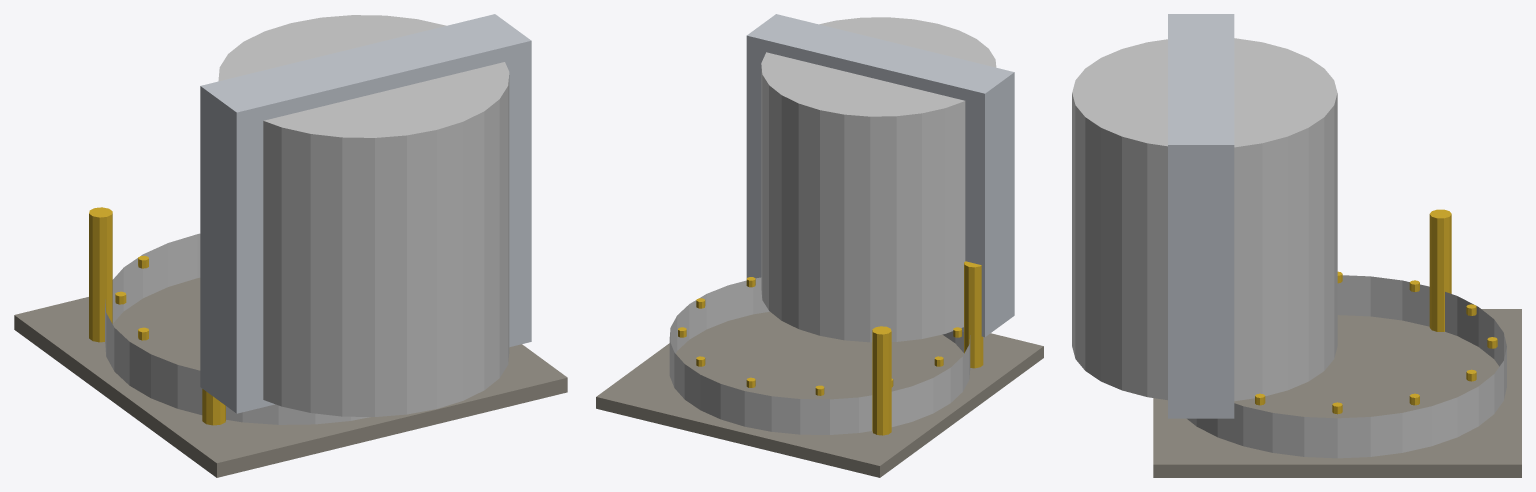
The model's file is silo_hatch_open.obj.
The picture shows the model from 3 angles, left to right: view 1: azimuth 30°, elevation 25°; view 2: azimuth 150°, elevation 25°; view 3: azimuth 270°, elevation 25°; orthographic projection. The views are drawn at different scales.
Parts seen in each view (by area): view 1: silo_hatch_open; view 2: silo_hatch_open; view 3: silo_hatch_open.
Part boxes in pixels (x1,y1,x2,y2): silo_hatch_open: (14, 14, 567, 477); silo_hatch_open: (596, 14, 1043, 477); silo_hatch_open: (1072, 14, 1521, 477).
Bounding box in the file's own units: 1 × 0.96 × 1.22.
